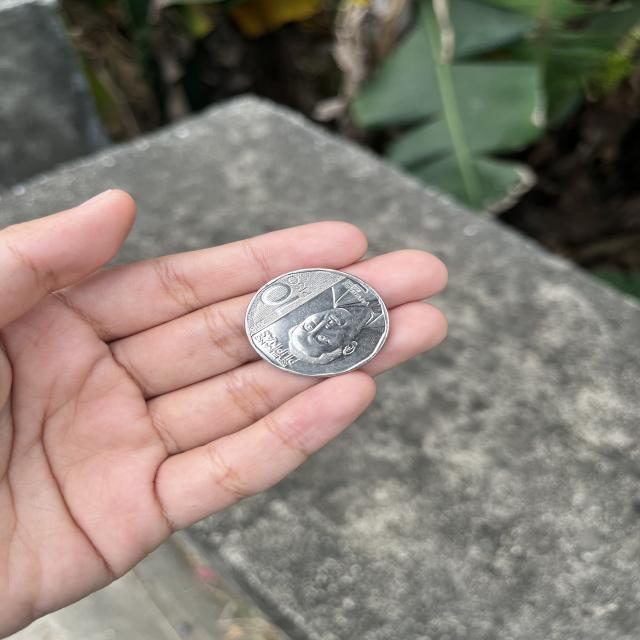10_New_Front: (260, 276, 313, 311)
